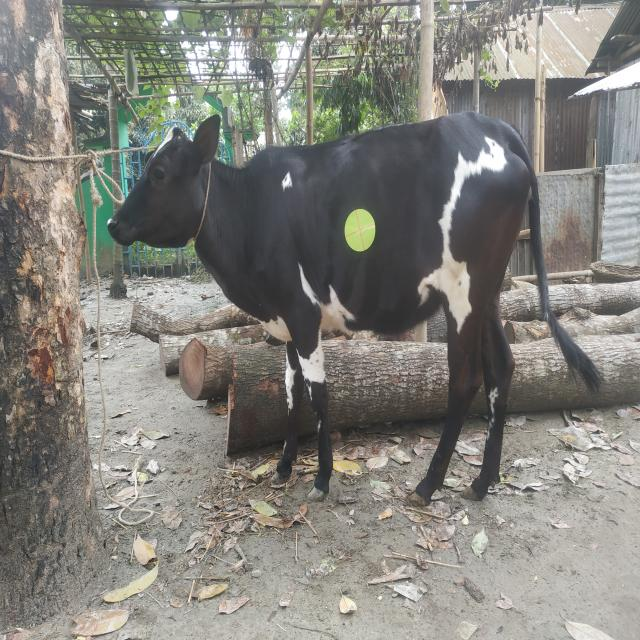badan_sapi: (245, 139, 523, 332)
sapi: (101, 97, 574, 530)
